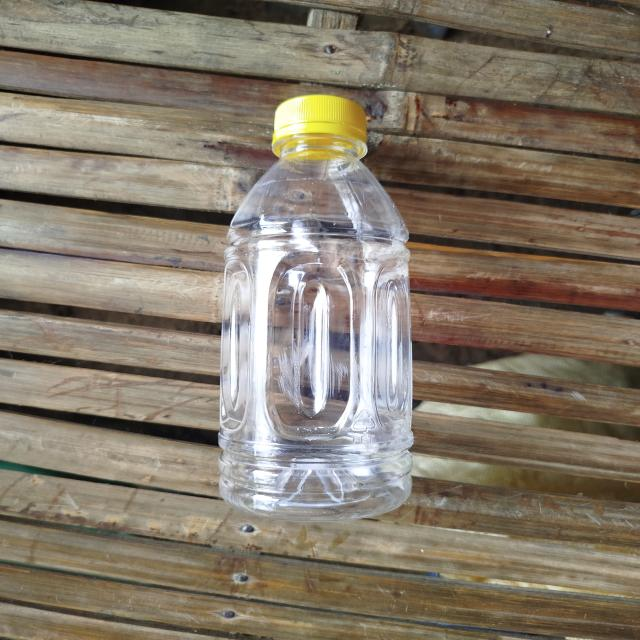plastic: (196, 82, 443, 528)
